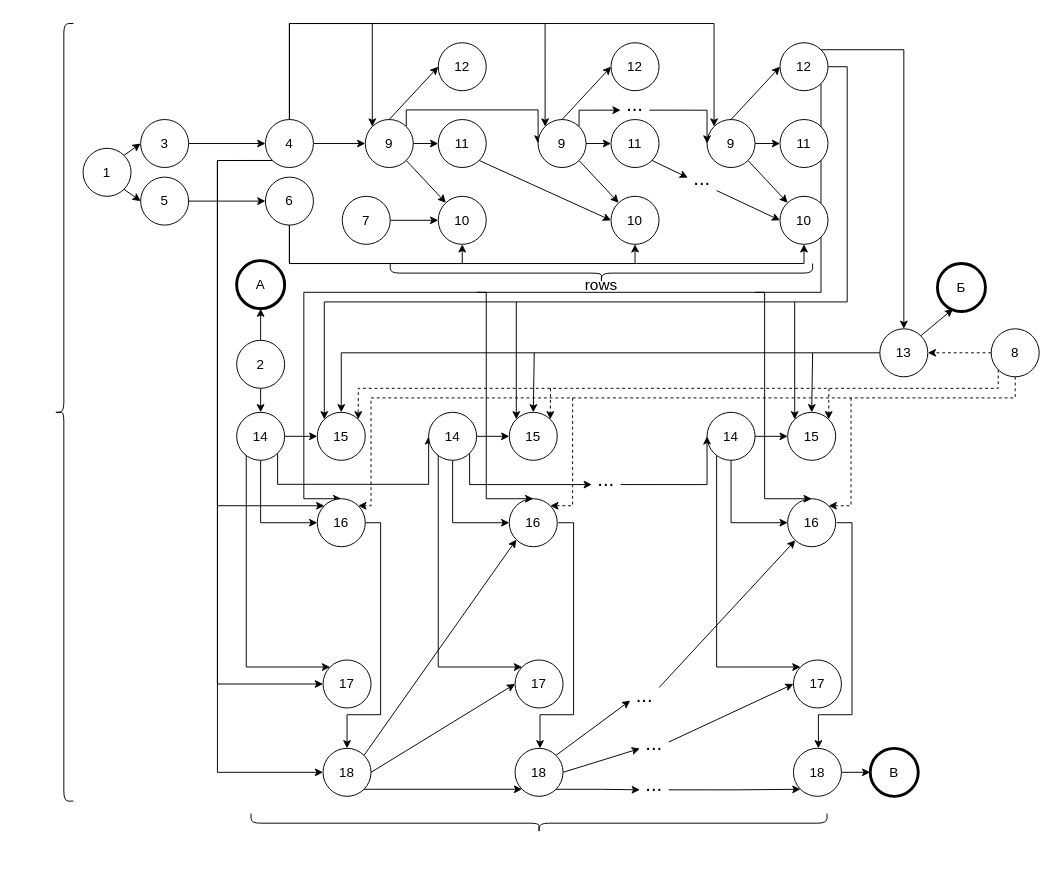
This 1056x881 diagram has some shape labels left out. The shapes that lost their labels are listed below. From the top down, each one's box as (x1, y1, x2, y2) in pixels, then its label:
(53, 23, 73, 801): B[1]
(250, 813, 827, 833): columns
